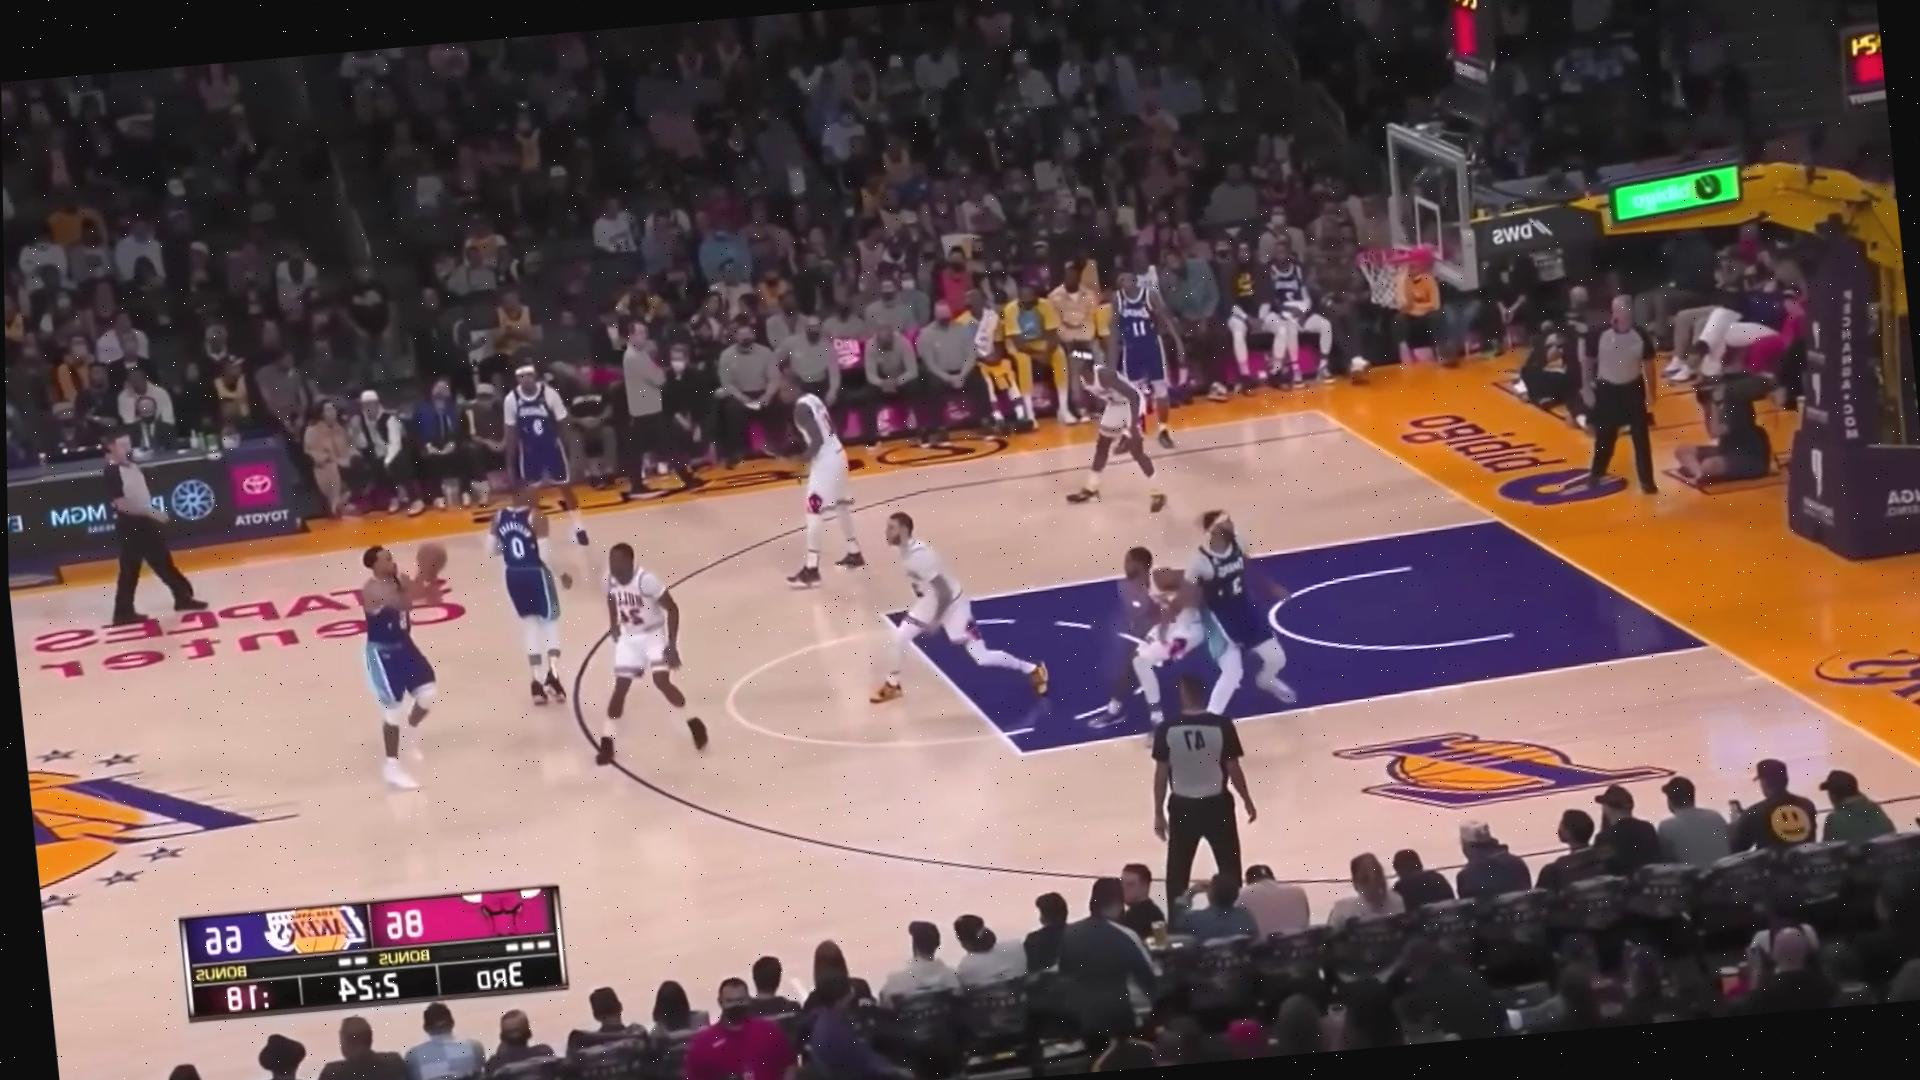foul: (1081, 467, 1321, 709)
